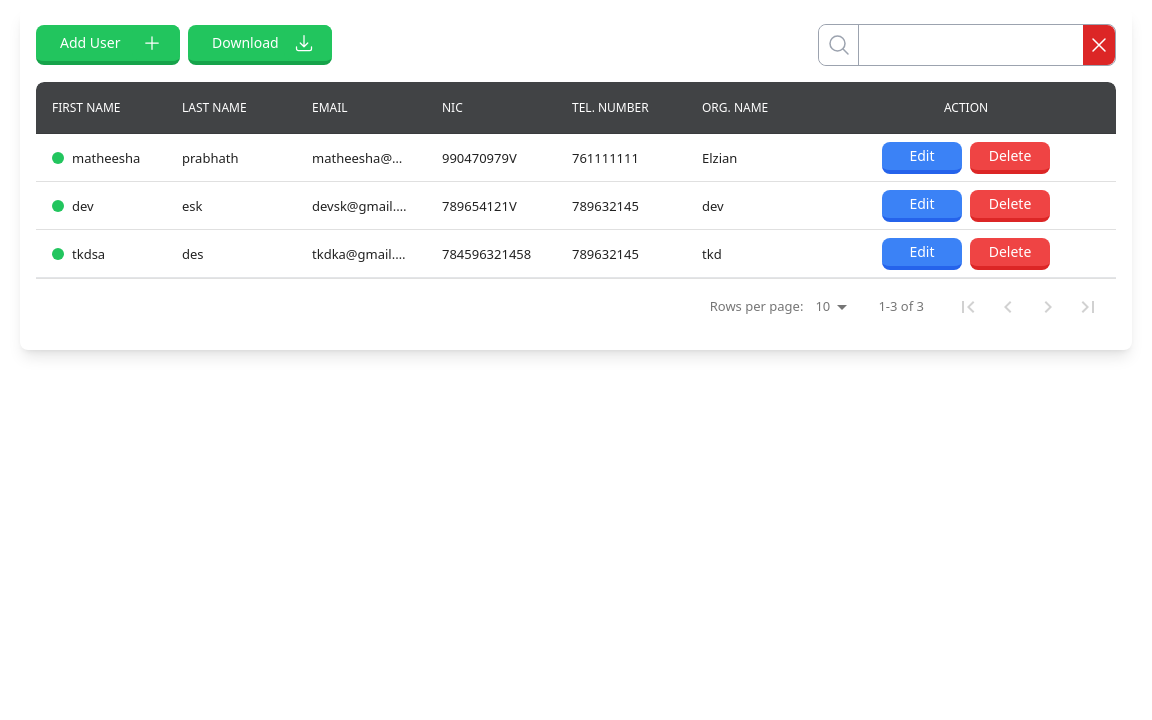
Test: ManageUsers Component › shows confirmation modal on delete and deletes user on confirm
# Click the delete button of the first user
What coordinates should you click on to do the following:
click the button "Delete" in the row of "prabhath"
I would click on:
 (1010, 158)
Its box is x1=970 y1=142 x2=1050 y2=174.
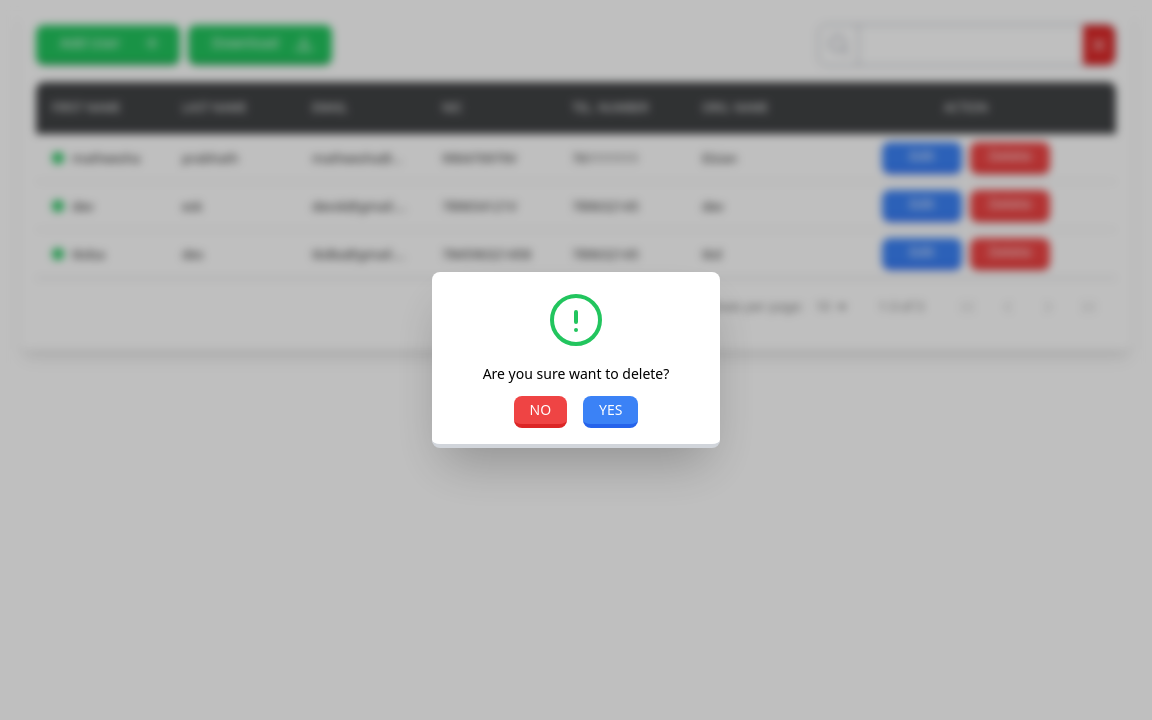
Result: the text "Are you sure want to delete?" is shown at x1=483 y1=364 x2=669 y2=383
# Simulate user confirming the deletion
What coordinates should you click on to do the following:
click the button "YES"
I would click on:
 (611, 412)
Its box is x1=583 y1=396 x2=638 y2=428.
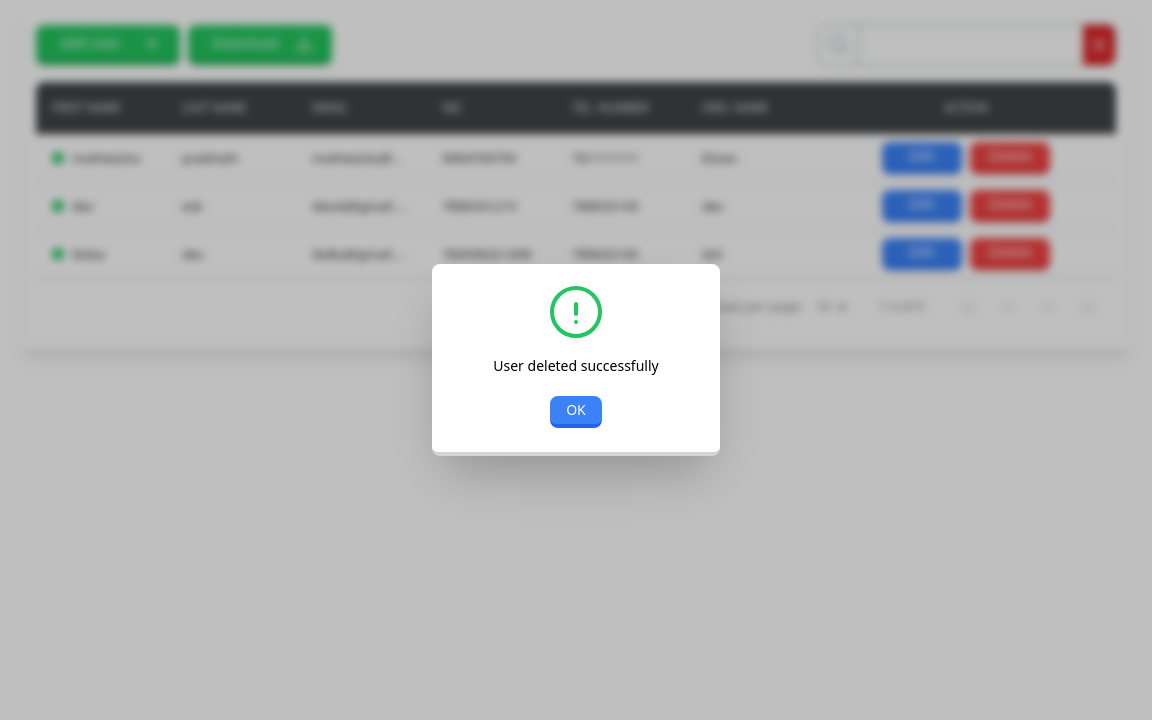
Result: the text "User deleted successfully" is shown at x1=493 y1=356 x2=659 y2=375
